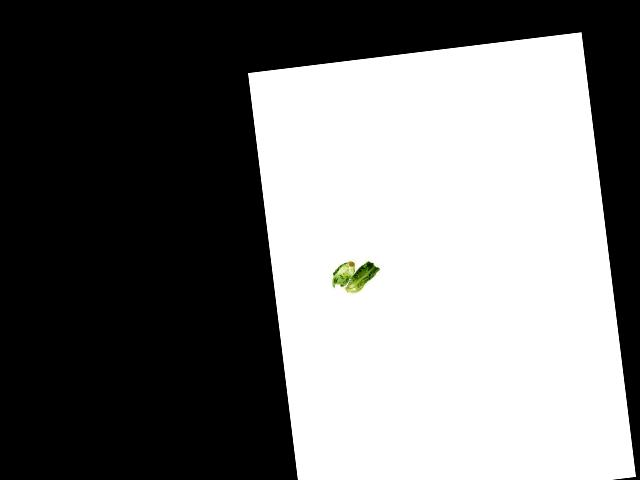lettuce: (328, 256, 359, 288)
